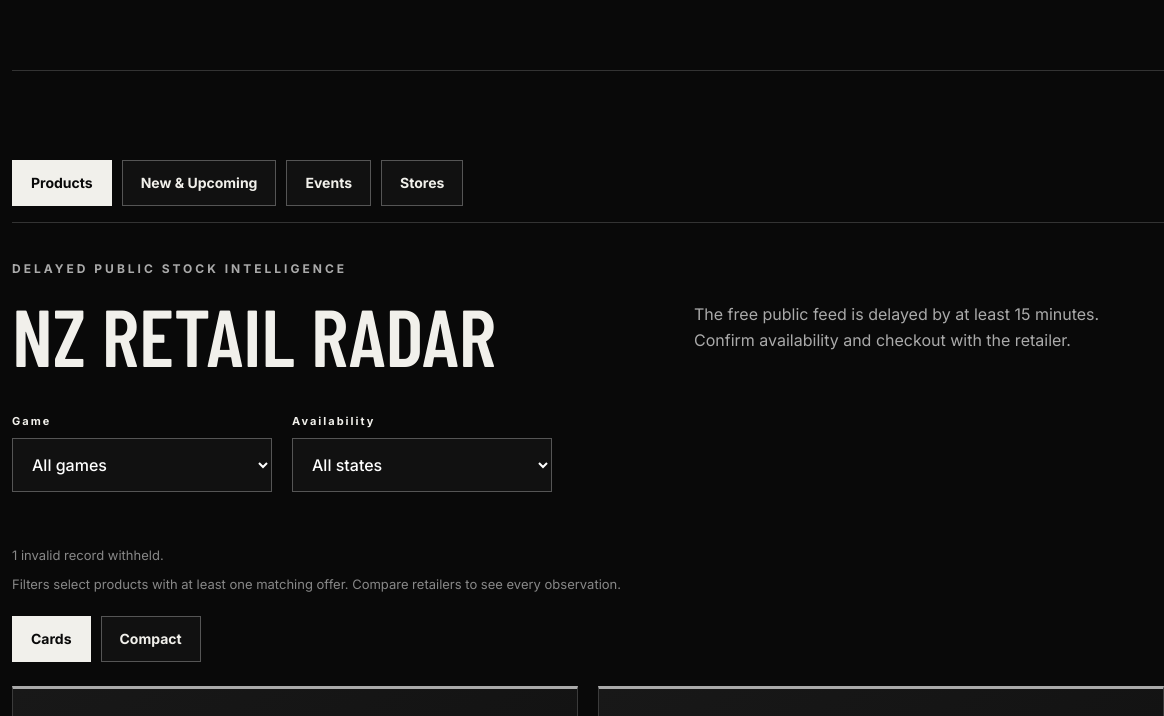
Scenario: TcgRadar › reports zero matching products
Select "Out of stock" in the dropdown labelled "Availability": {"x": 422, "y": 465} [292,438,552,492]
(page scrolled)
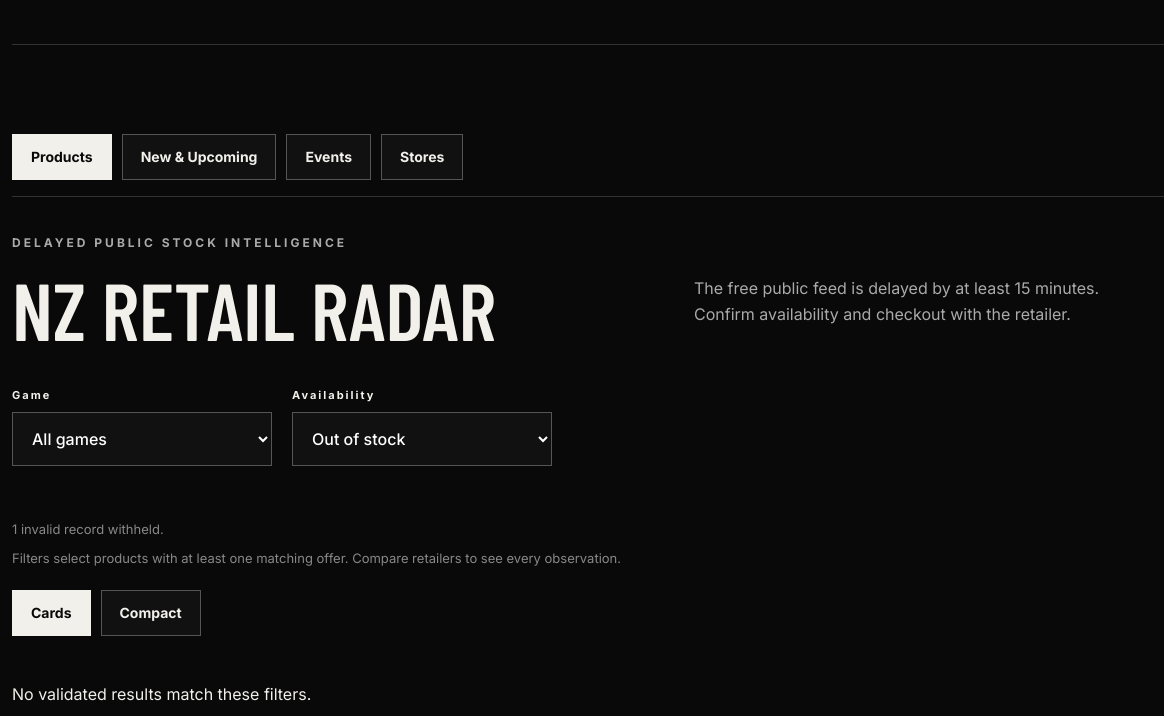
Result: the text "No validated results match these filters." is shown at [12,684,311,704]
